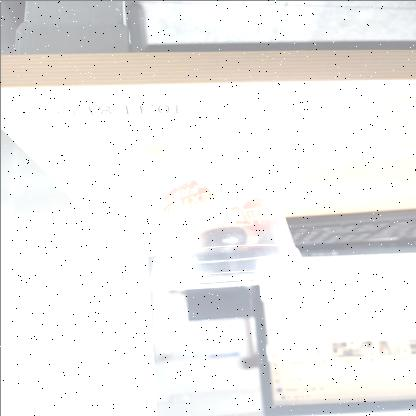Others: (136, 134, 322, 291)
